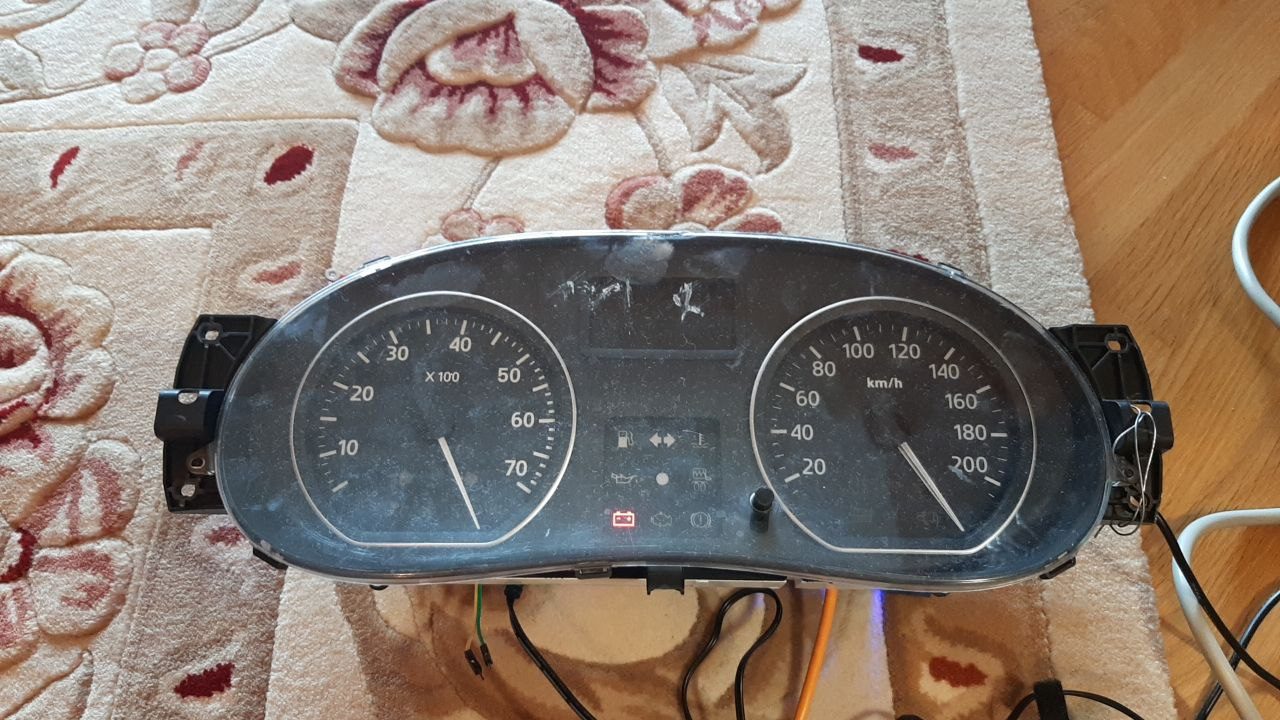accumulator: (609, 510, 639, 528)
